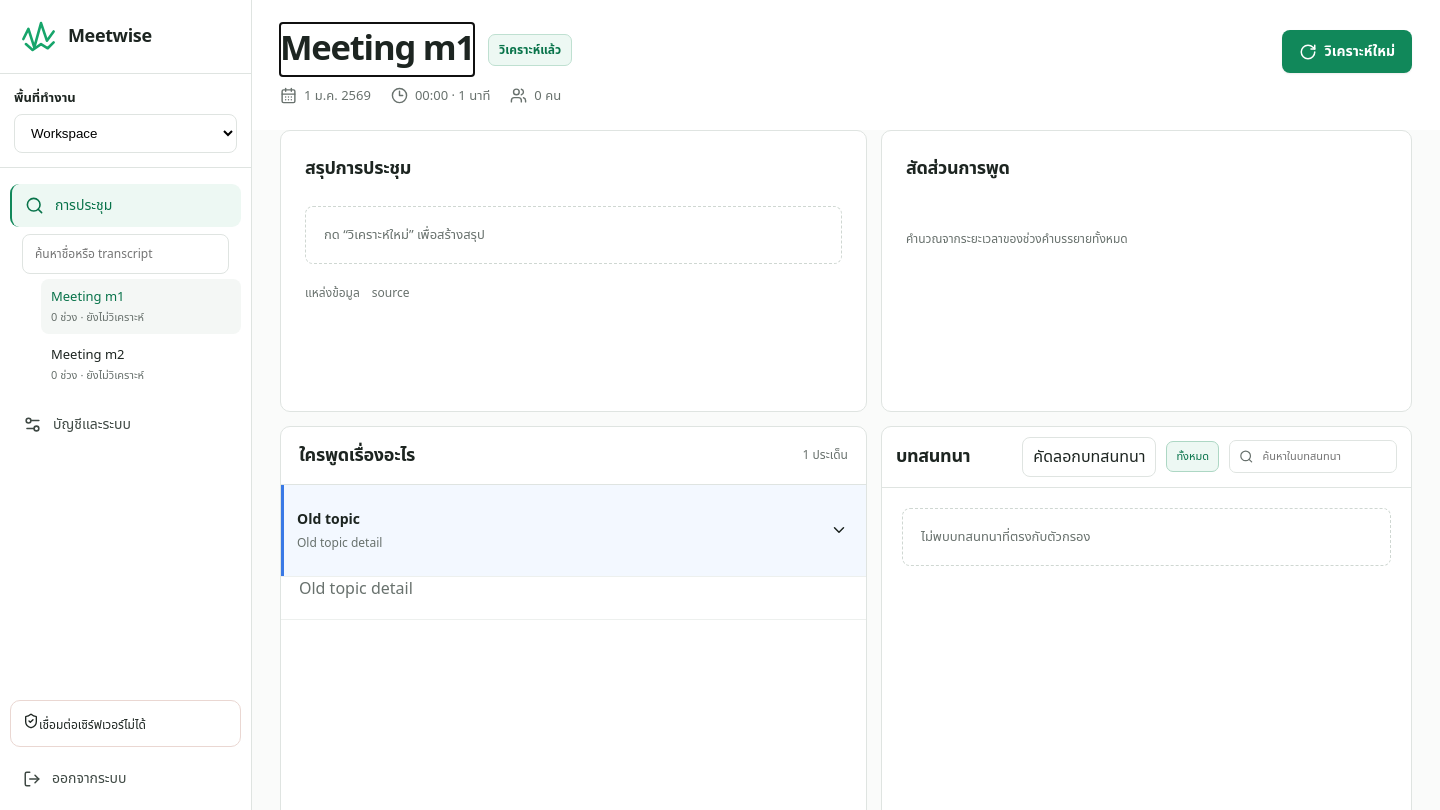
it: dashboard authentication and role-aware UI › does not retain expanded topic details after navigating to another meeting
Expected: the heading "Meeting m1" is shown, [280,30,474,70]
Expected: the 2nd text "Old topic detail" is shown, [299,577,413,601]
Click the button "Meeting m2 0 ช่วง · ยังไม่วิเคราะห์" at (141, 364), box [41,337,241,392]
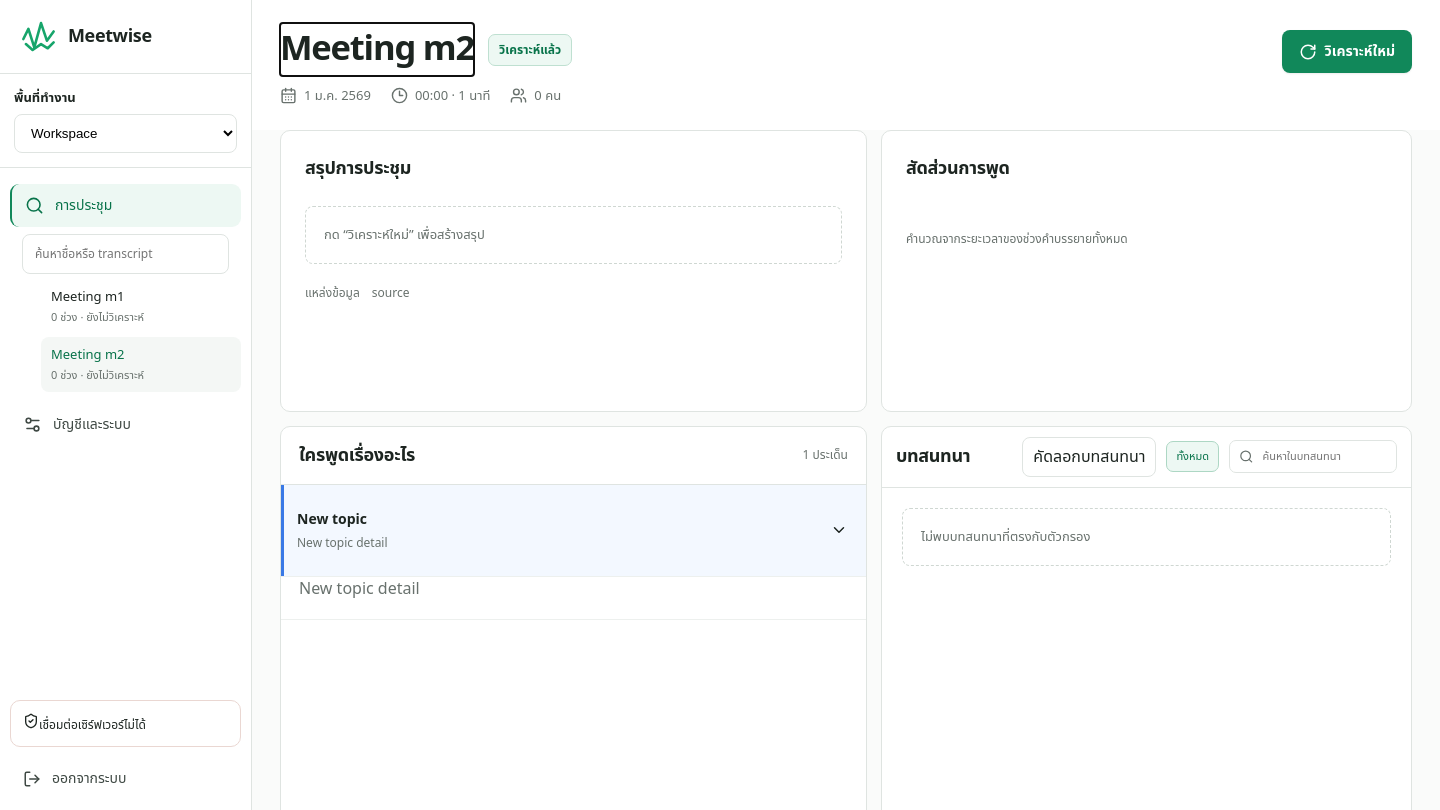
Expected: the heading "Meeting m2" is shown, [280,30,474,70]
Expected: the button "Old topic detail" is gone
